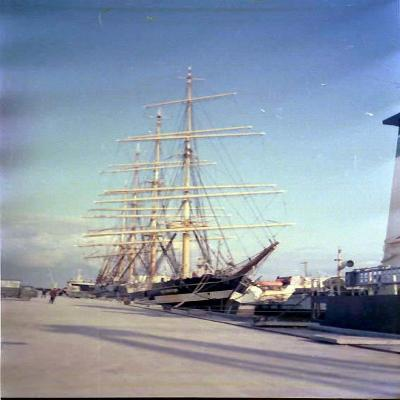photos_negatives: (0, 9, 400, 400)
